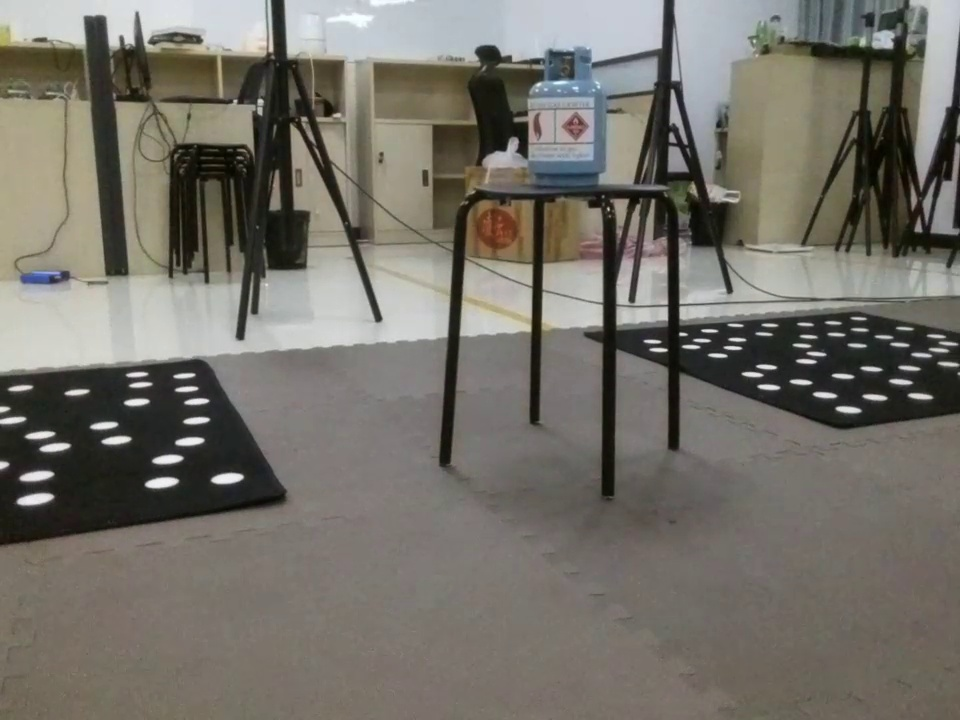gas tank: (523, 45, 612, 190)
